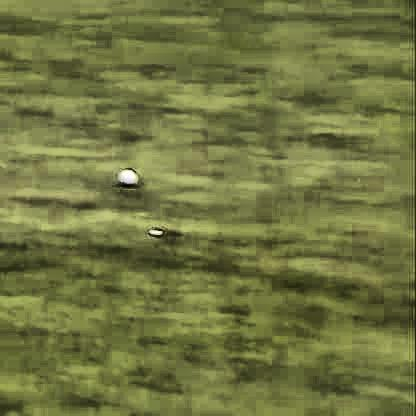golfball: (115, 167, 134, 185)
